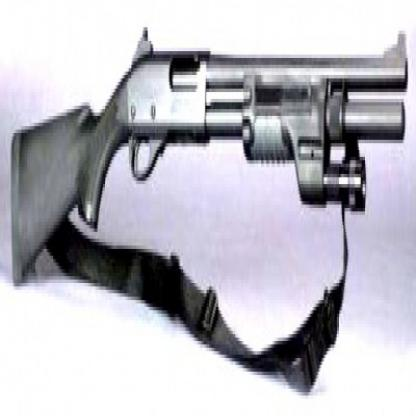Guns: (0, 0, 415, 413)
